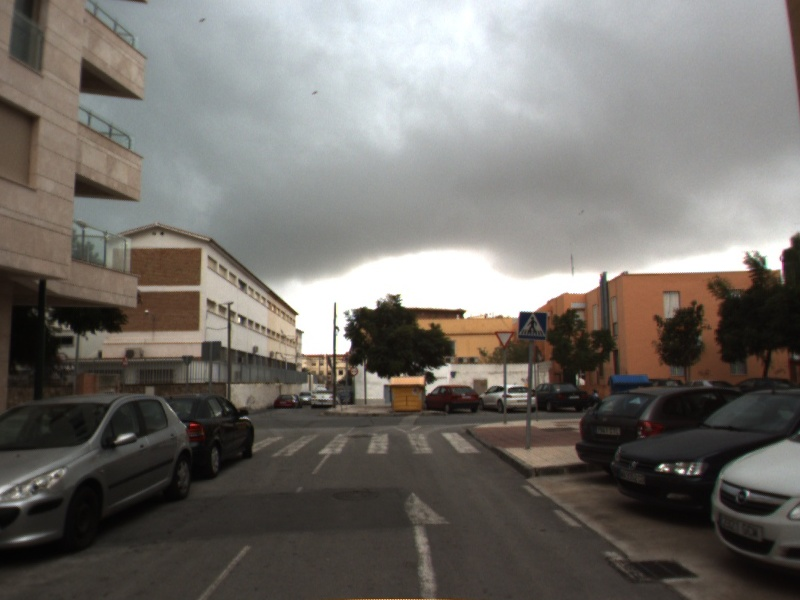STRAIGHT: (400, 489, 456, 600)
